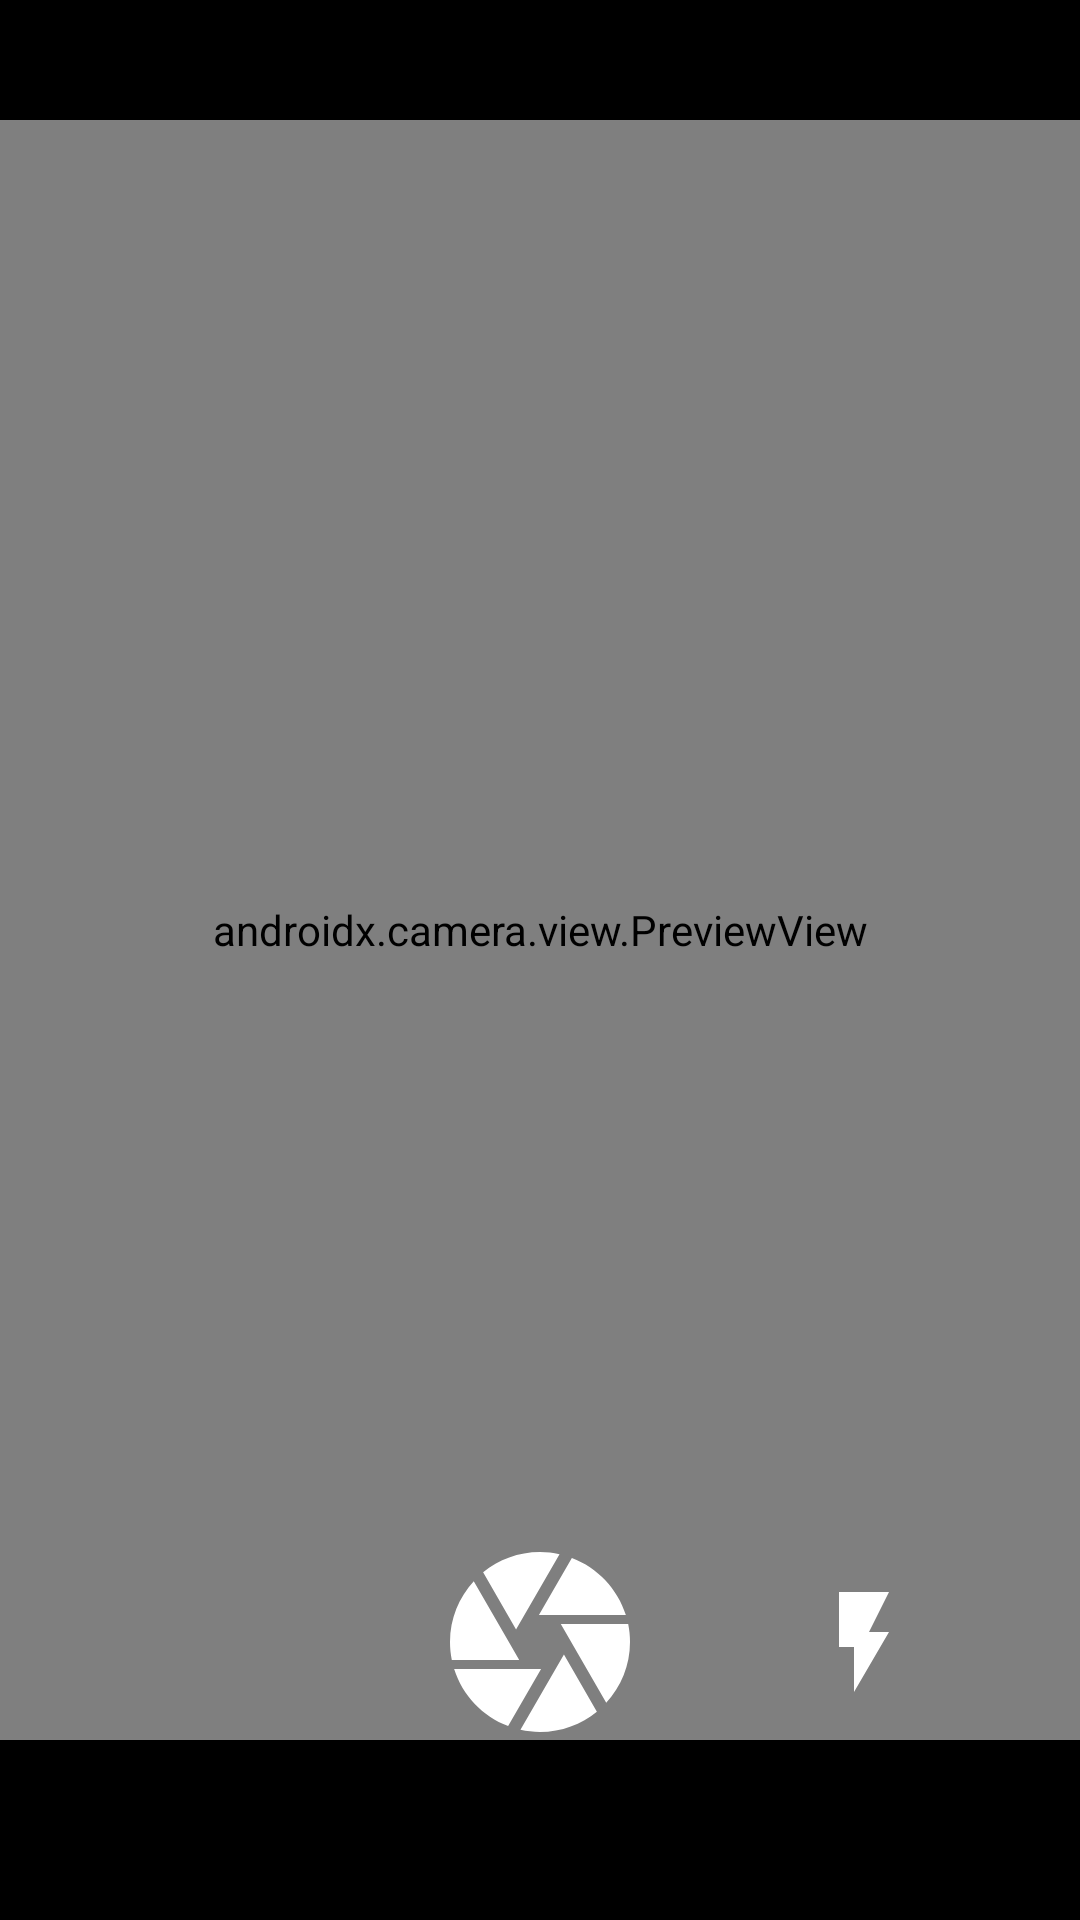

Icon click points for this 1080px x 1920px phone screenshot, format (x,y):
Flashlight control: (864,1642)
Take a photo: (540,1642)
